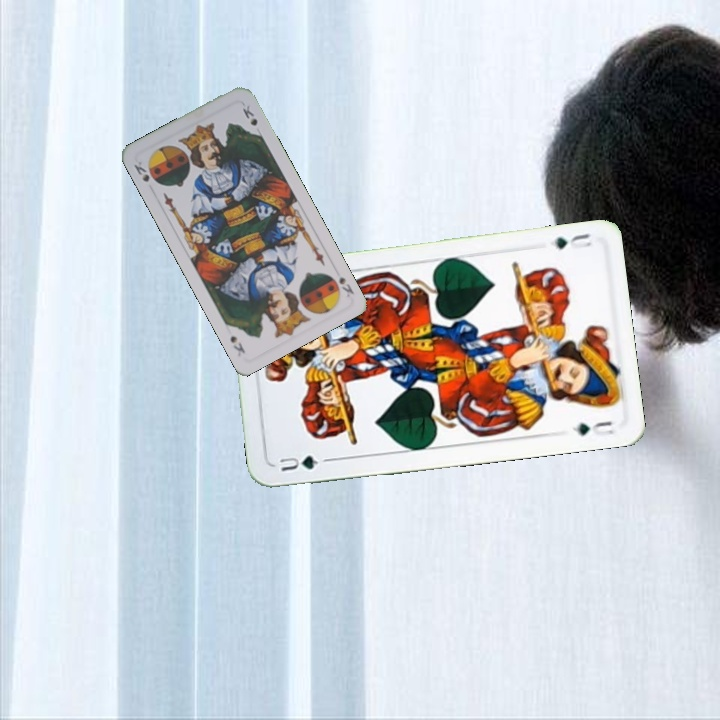GU: (275, 451, 331, 474), (546, 229, 594, 252)
SK: (130, 157, 152, 185), (335, 273, 357, 300)
